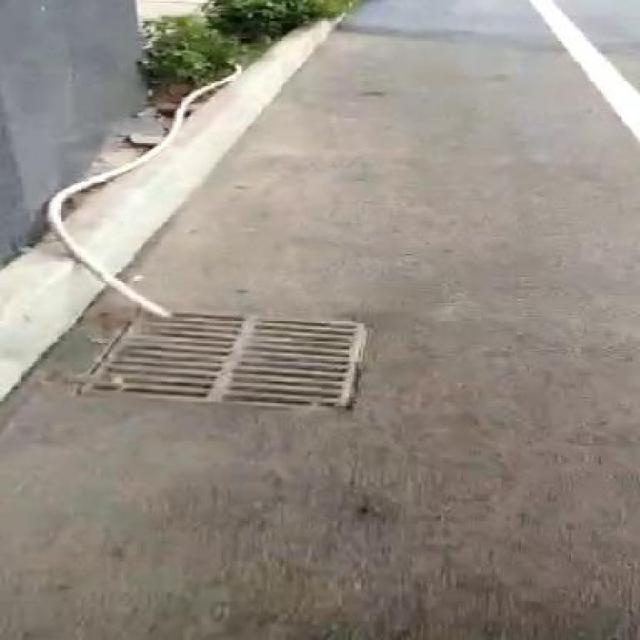Manhole: (61, 308, 388, 422)
